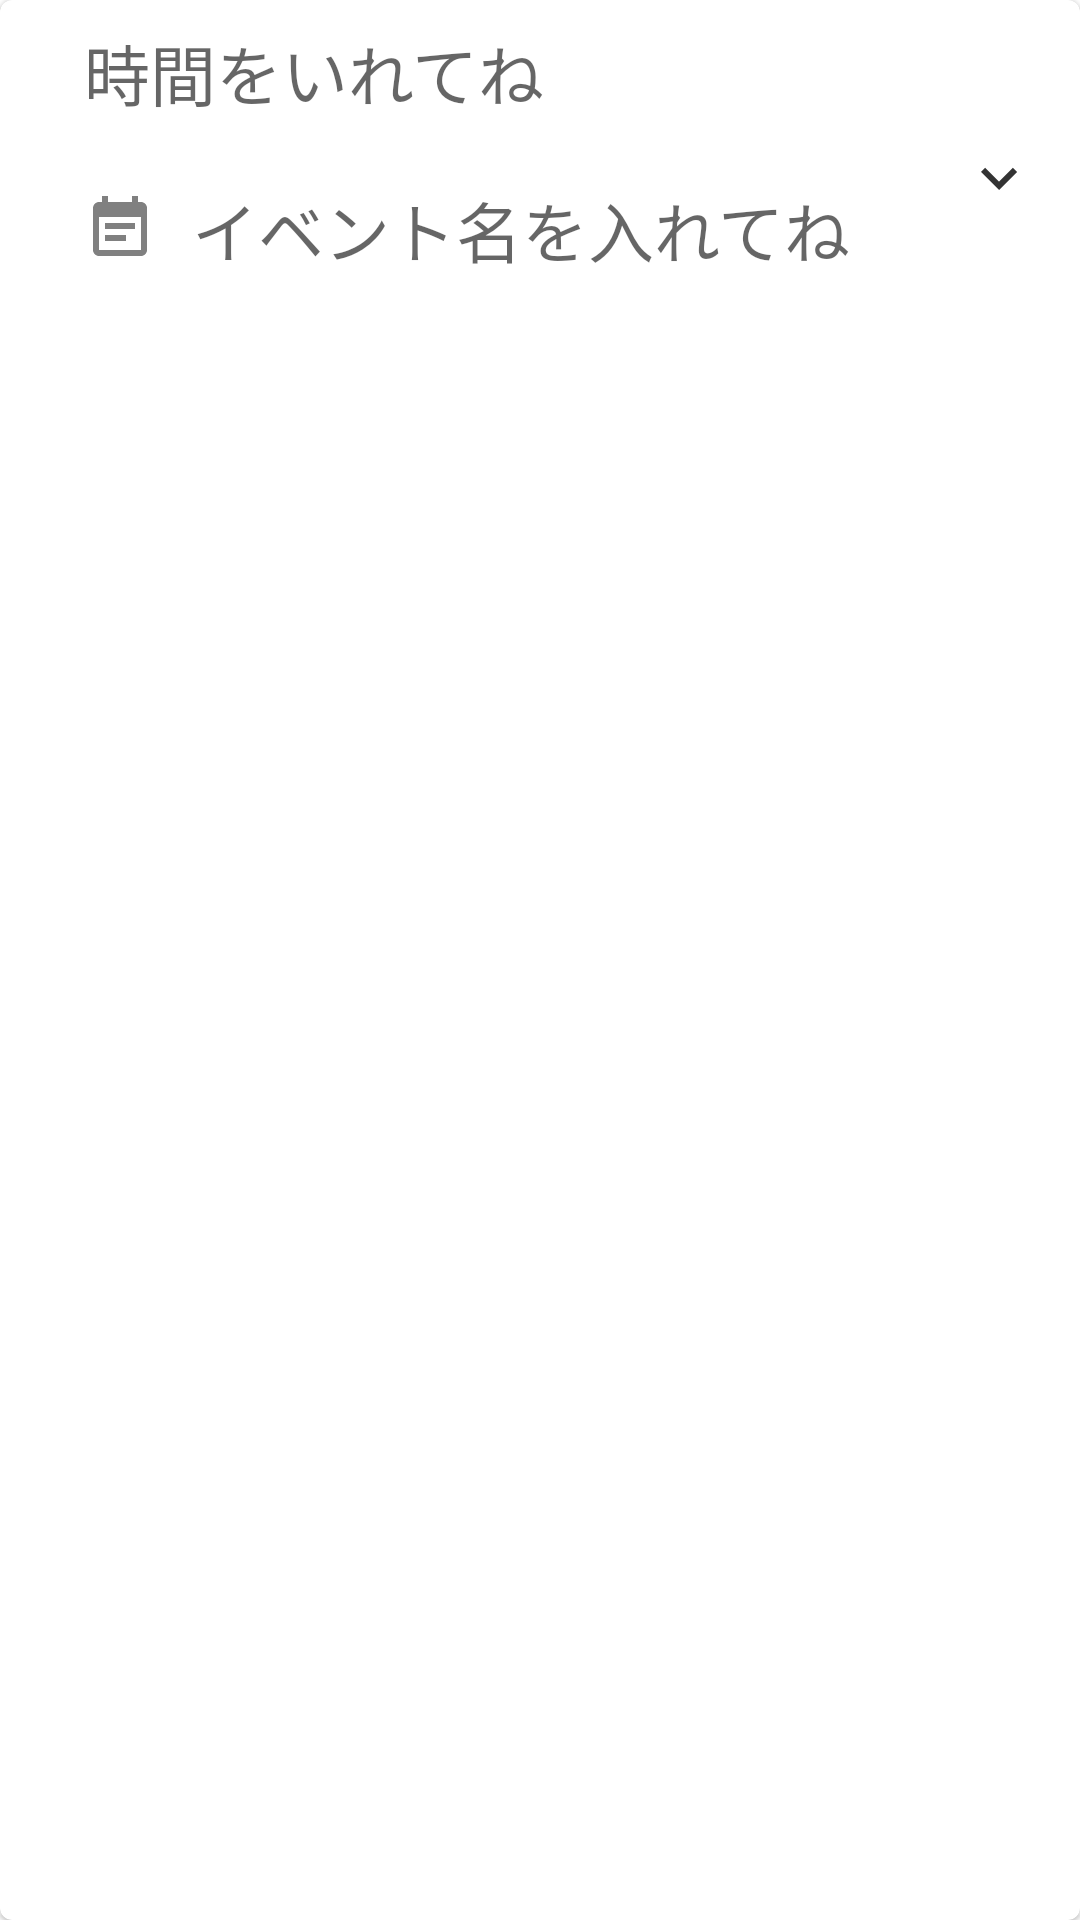

Point at icon controls on the screen. Image size 1080x1920, points as point (x, y).
down arrow: point (999, 179)
